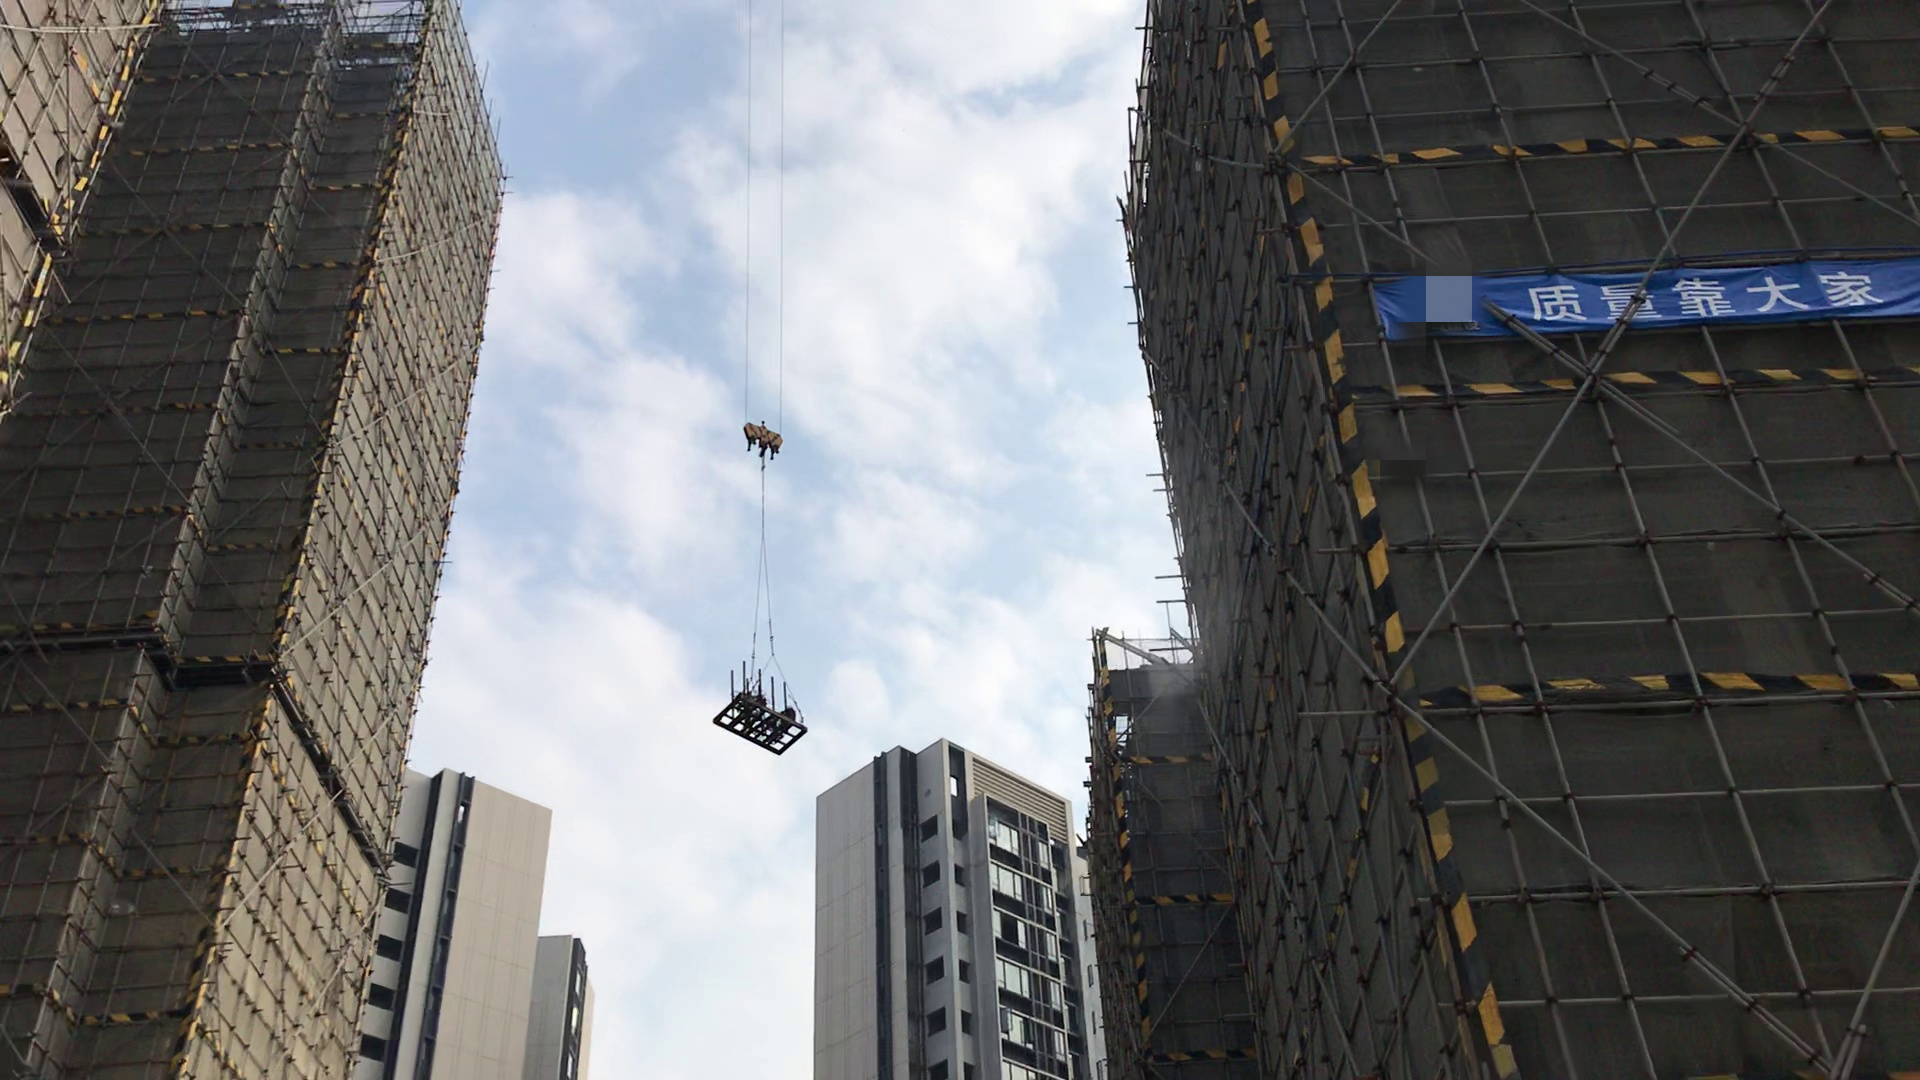hook: (735, 411, 800, 463)
slogan: (1349, 232, 1920, 347)
